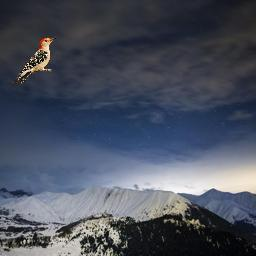Woodpecker: (12, 37, 57, 85)
